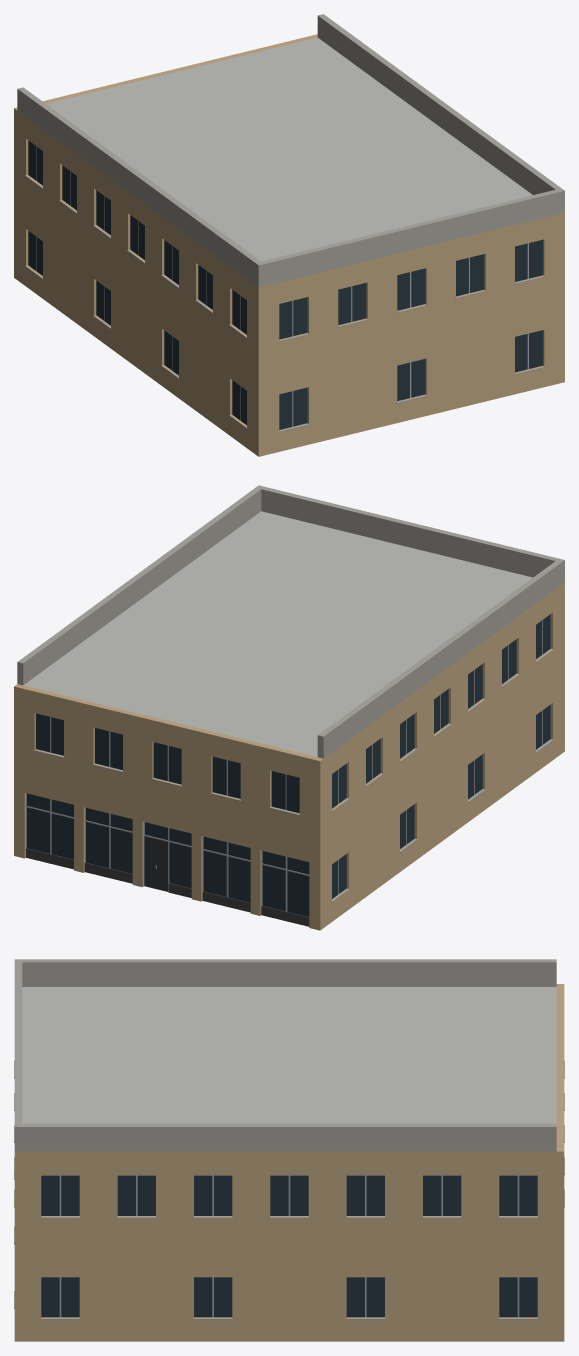
File: tf_dt_brick_2s_w15.glb
The picture shows the model from 3 angles, top to bottom: view 1: azimuth 30°, elevation 25°; view 2: azimuth 150°, elevation 25°; view 3: azimuth 270°, elevation 25°; orthographic projection. The views are drawn at different scales.
Parts seen in each view (by area): view 1: tf_dt_brick_2s_w15-col; view 2: tf_dt_brick_2s_w15-col; view 3: tf_dt_brick_2s_w15-col.
Boxes of the visible parts, x1,y1,x2,y2 form: tf_dt_brick_2s_w15-col: (14, 14, 564, 456); tf_dt_brick_2s_w15-col: (14, 485, 564, 930); tf_dt_brick_2s_w15-col: (14, 959, 564, 1341).
Size of the model in its own units: 15.66 by 9.32 by 21.66.
